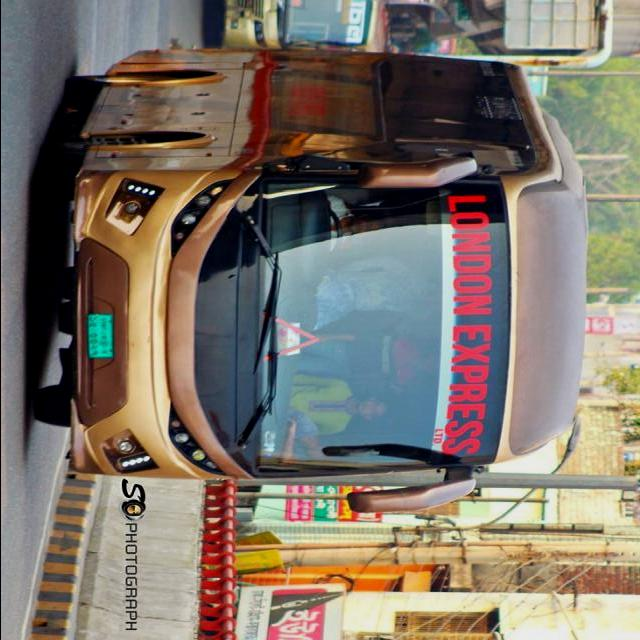bus: (27, 50, 587, 514)
